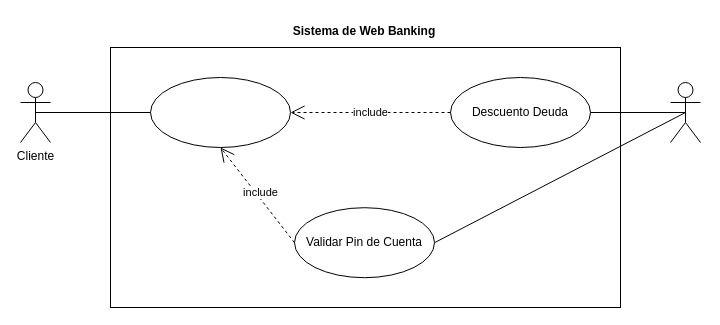
Some shapes in this 720 by 325 pixel diagram are drawn without their labels. The centre of each missing label's shape, as x and y in pixels:
"Banco" belongs at [685,112].
"Pago de Tarjetas de Créditos" belongs at [220,112].
